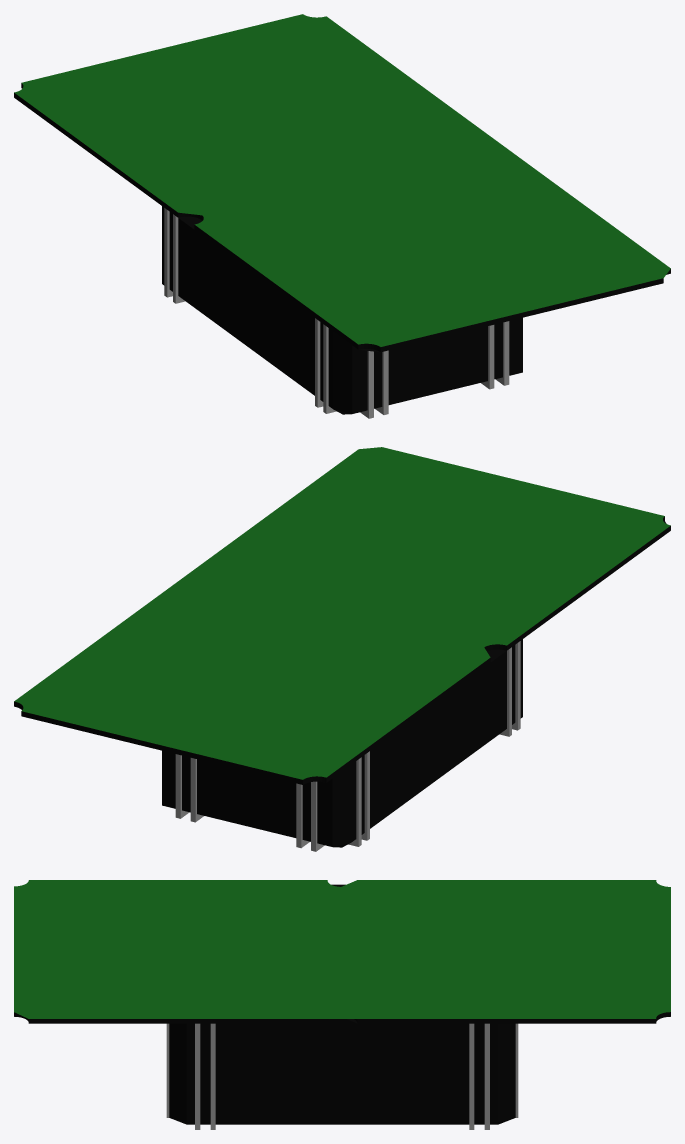
Rendered from table.fbx.
3 renders of one model, top to bottom at view 1: azimuth 30°, elevation 25°; view 2: azimuth 150°, elevation 25°; view 3: azimuth 270°, elevation 25°, orthographic. The views are drawn at different scales.
Visible parts, largest first — view 1: Cube, Cube.003; view 2: Cube, Cube.003; view 3: Cube, Cube.003, Cube.008, Cube.002, Cube.004, Cube.005, Cube.006.
Boxes of the visible parts, box(x1,y1,x2,y2) form: Cube: box(14, 14, 670, 352); Cube.003: box(162, 206, 522, 414); Cube: box(14, 447, 670, 784); Cube.003: box(162, 639, 522, 847); Cube: box(14, 880, 670, 1023); Cube.003: box(169, 1019, 515, 1124); Cube.008: box(166, 1023, 518, 1117); Cube.002: box(484, 1023, 489, 1129); Cube.004: box(195, 1023, 200, 1129); Cube.005: box(210, 1023, 215, 1129); Cube.006: box(469, 1023, 474, 1129).
Bounding box in the file's own units: 12700 × 5850 × 25400.
